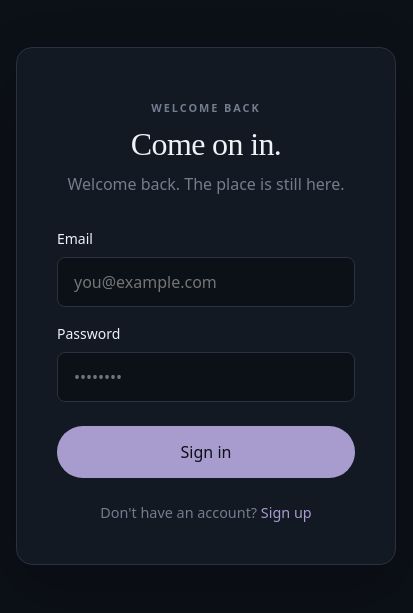
Test: Authentication Pages › Login Page › shows error for empty credentials
What coordinates should you click on to do the following:
click the button "Sign in"
I would click on:
 (206, 452)
Its box is [57,426,355,478].
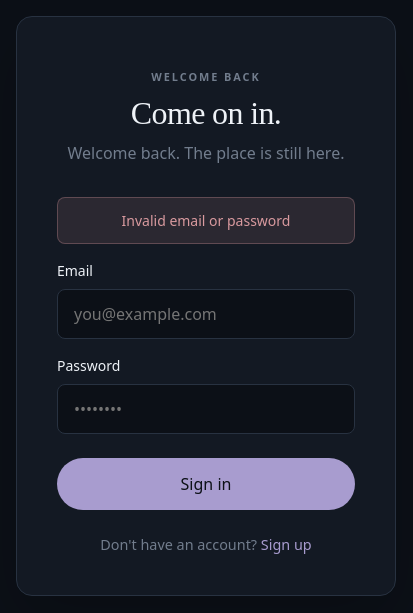
Check: the message reads "Invalid email or password", box [122,211,290,230]
